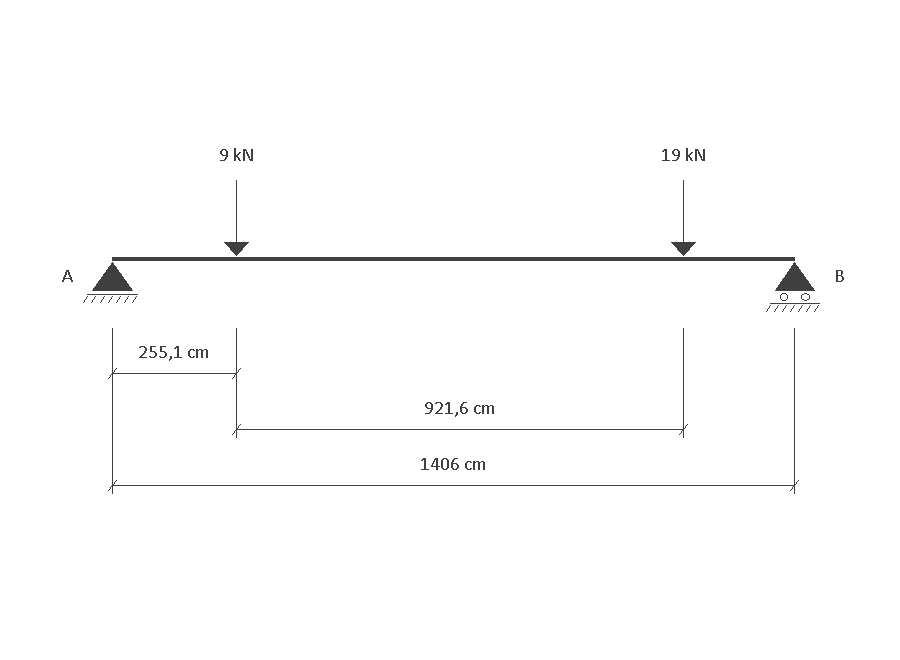pin_support: (83, 262, 138, 303)
point_load: (224, 180, 249, 256), (671, 180, 696, 256)
roller_support: (766, 262, 820, 312)
